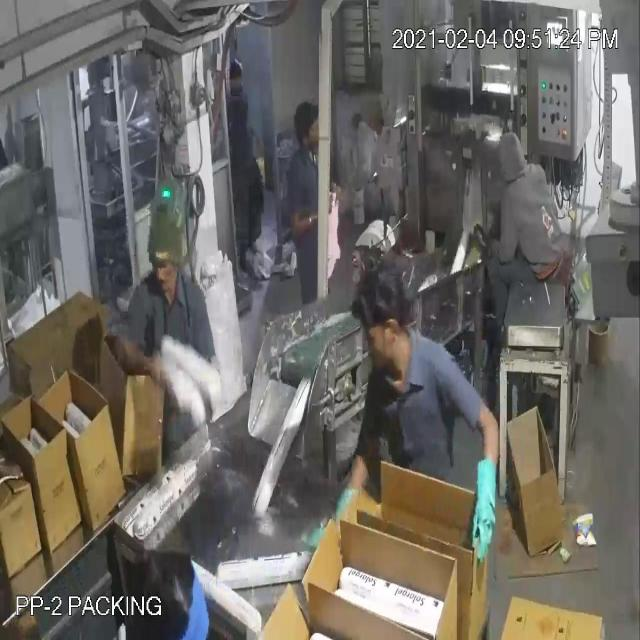No_Gloves: (43, 62, 486, 512)
